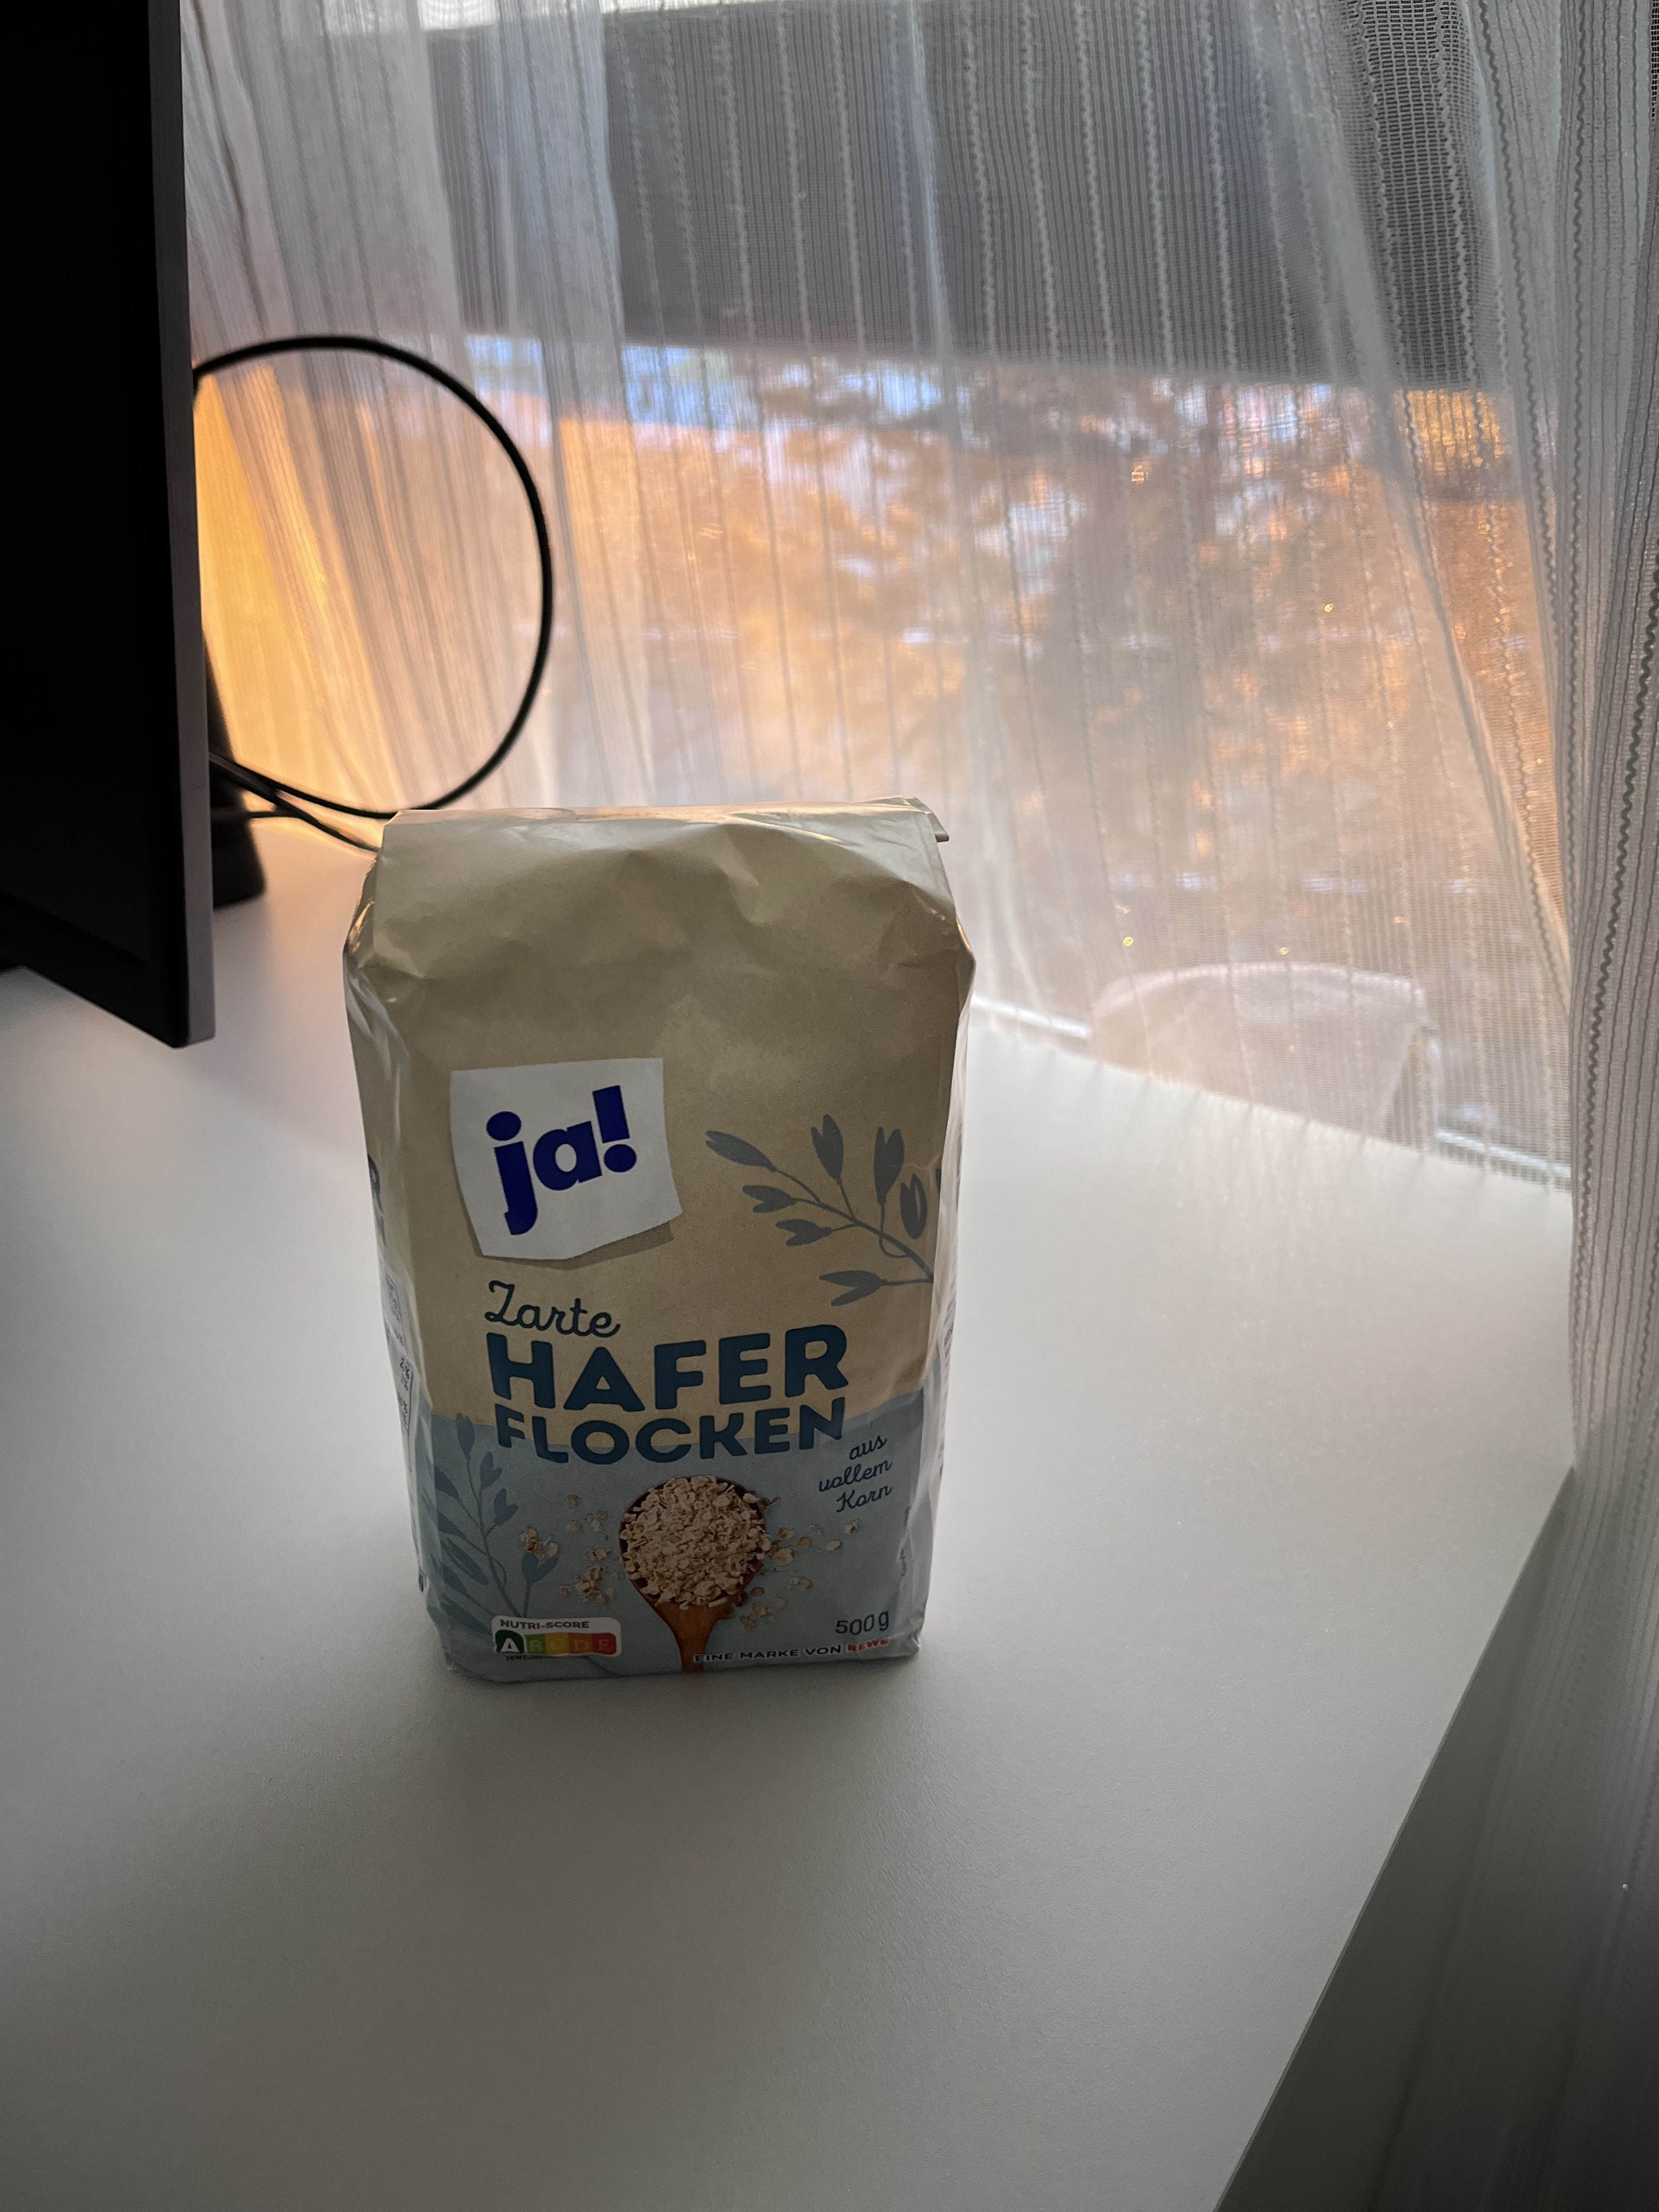haferflocken_ja: (342, 801, 972, 1691)
